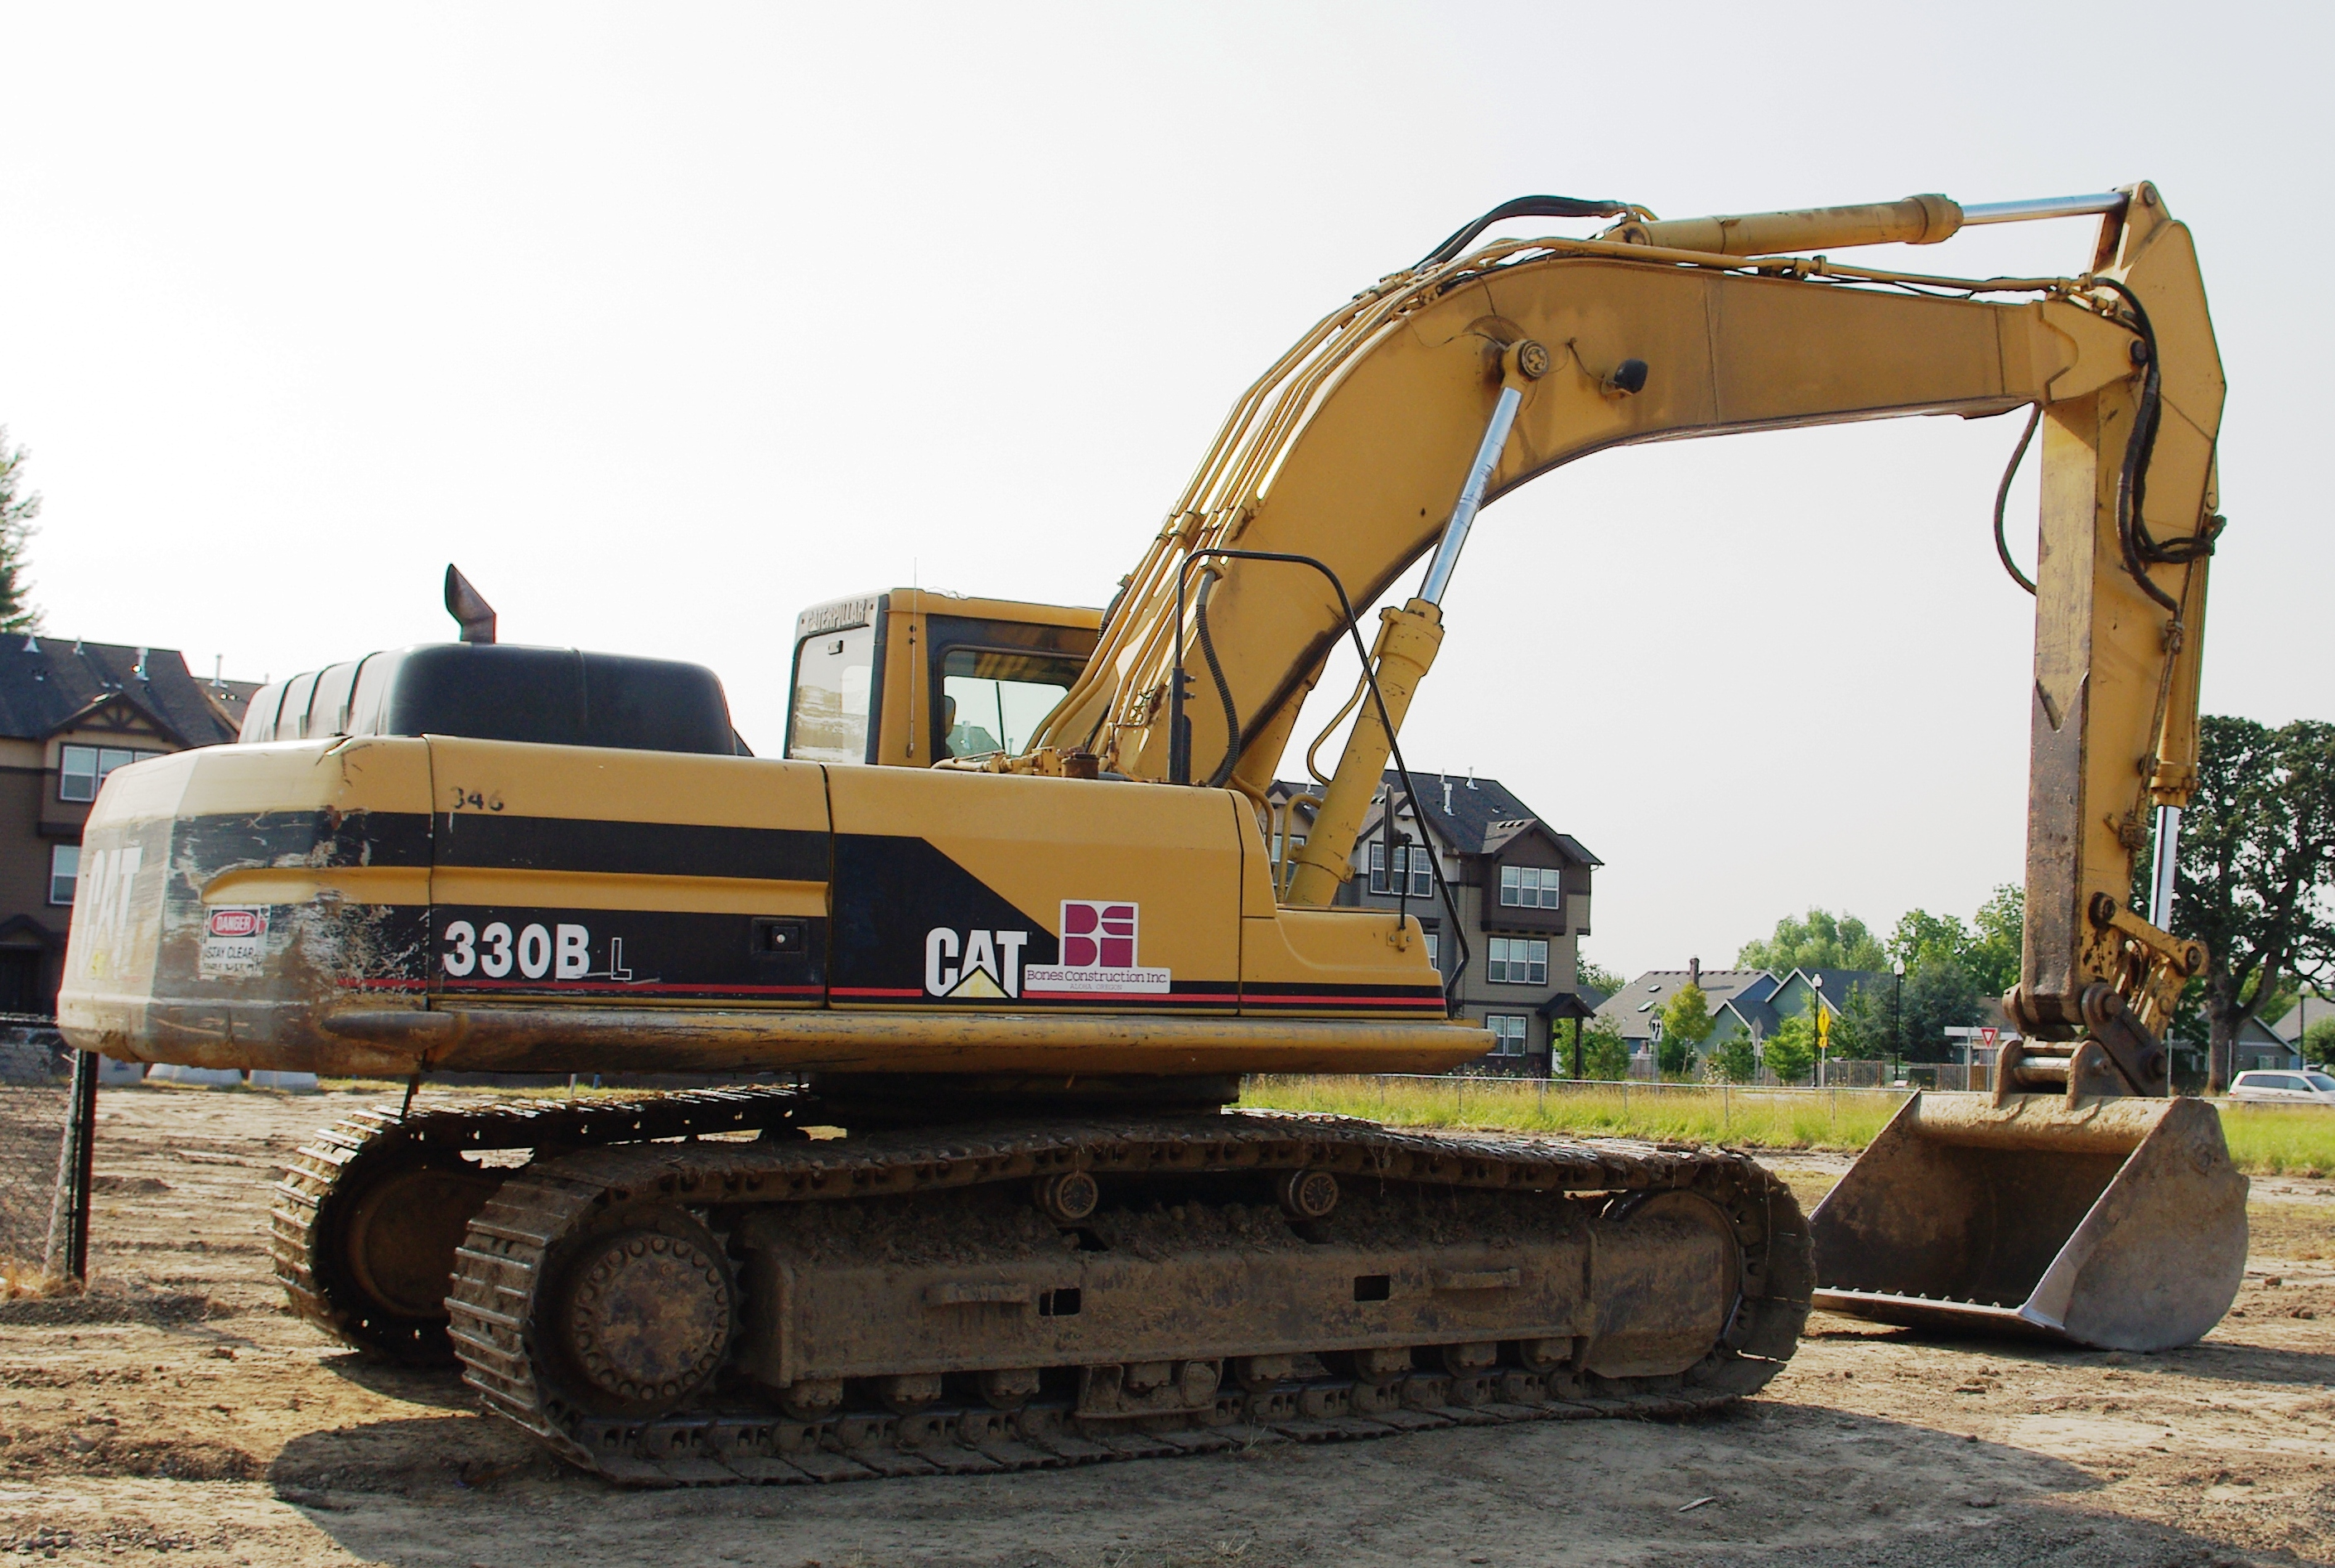excavator: (33, 171, 2295, 1496)
